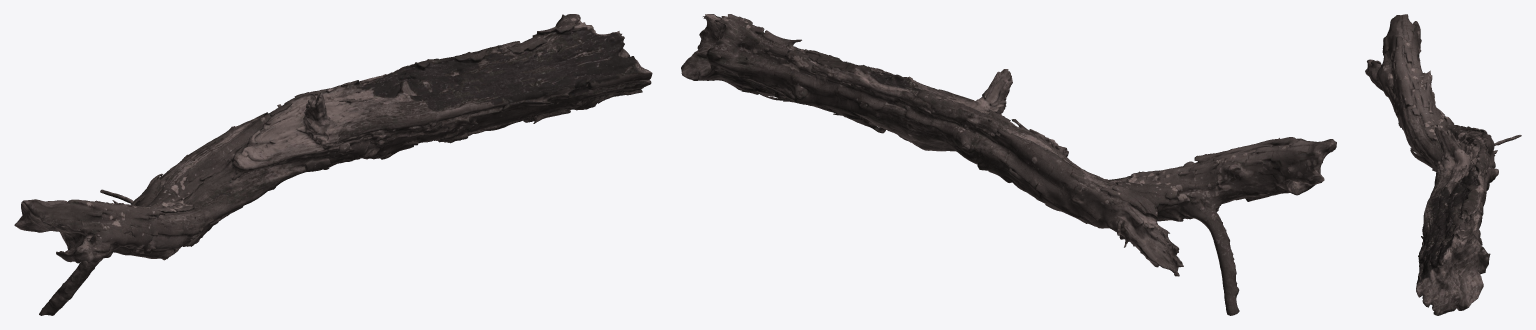
Rendered from dead_tree_trunk_02.gltf.
3 renders of one model, left to right at view 1: azimuth 30°, elevation 25°; view 2: azimuth 150°, elevation 25°; view 3: azimuth 270°, elevation 25°, orthographic. The views are drawn at different scales.
Parts seen in each view (by area): view 1: dead_tree_trunk_02; view 2: dead_tree_trunk_02; view 3: dead_tree_trunk_02.
Part boxes in pixels (bbox=[...]): dead_tree_trunk_02: bbox=[14, 14, 652, 315]; dead_tree_trunk_02: bbox=[681, 14, 1336, 315]; dead_tree_trunk_02: bbox=[1365, 14, 1521, 315].
Bounding box in the file's own units: 4.05 × 1.06 × 1.06.
Materials: 1 (1 with a texture image).
